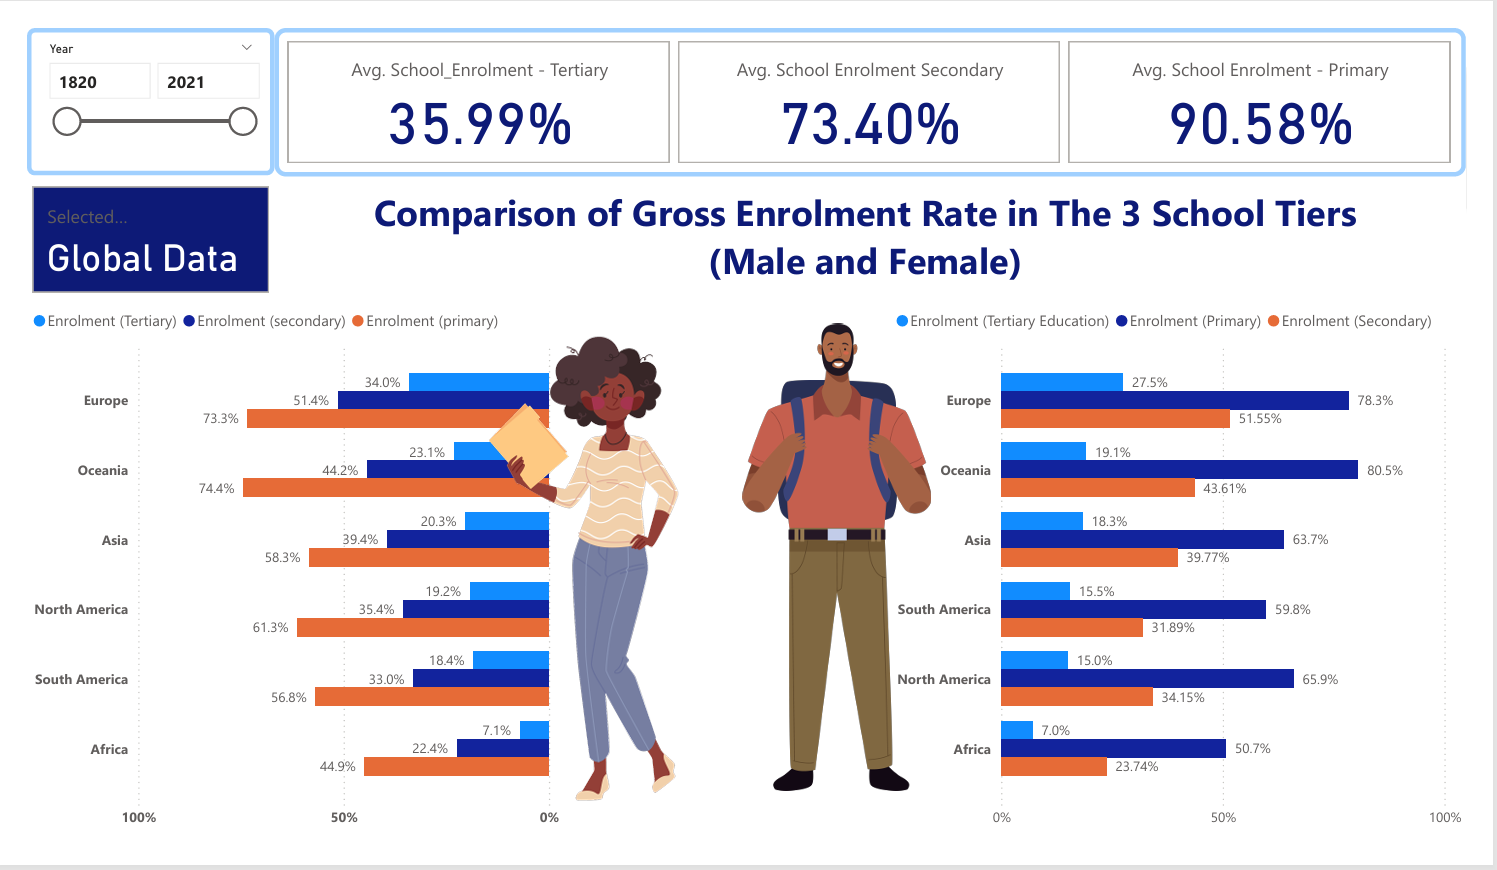

The page's visual inventory and layout, read from the dashboard file:
{"tool":"powerbi","page":{"name":"Gender Gap","canvas":[1280,720],"ordinal":1},"visuals":[{"type":"clusteredBarChart","title":"Comparison of Gross Enrolment in The 3 School Tiers (Male)","fields":{"Category":["world-education-data.Continent"],"Y":["Avg(Gender-gap-education-levels.Combined Gross Enrolment Ratio for Tertiary Education (Male))","Avg(Gender-gap-education-levels.Combined total net enrolment rate, secondary, male)","Avg(Gender-gap-education-levels.Combined total net enrolment rate, primary, male)"]},"box":[767.5,240,512.9,479.9],"z":0},{"type":"clusteredBarChart","title":"Comparison of Gross Enrolment in The 3 School Tiers (Female)","fields":{"Category":["world-education-data.Continent"],"Y":["Avg(Gender-gap-education-levels.Combined Gross Enrolment Ratio for Tertiary Education (Female))","Avg(Gender-gap-education-levels.Combined total net enrolment rate, secondary, female)","Avg(Gender-gap-education-levels.Combined total net enrolment rate, primary, female)"]},"box":[0,240,485.4,479.9],"z":1000},{"type":"image","box":[612.9,258.5,214.2,424.6],"z":2000},{"type":"image","box":[403.8,239.7,209.8,480.9],"z":3000},{"type":"slicer","fields":{"Values":["Gender-gap-education-levels.Year.Variation.Date Hierarchy.Year"]},"box":[0,0,219.8,131],"z":4000},{"type":"cardVisual","fields":{"Data":["Avg(world-education-data.school_enrol_tertiary_pct)","Avg(world-education-data.school_enrol_secondary_pct)","Avg(world-education-data.school_enrol_primary_pct)"]},"box":[219.8,0,1058.7,131.9],"z":5000},{"type":"textbox","box":[242.6,135.6,1004.6,108.5],"z":6000},{"type":"cardVisual","fields":{"Data":["world-education-data.Selected Country/Continent"]},"box":[0,135.6,219.8,104.2],"z":6001}]}

Visuals, with their boxes on the page's 1280x720 design canvas (x1, y1, x2, y2). These are canvas units, not pixel positions in the 1497x870 screenshot, which may show the page scaled, cropped or inside an application window:
"Comparison of Gross Enrolment in The 3 School Tiers (Male)" clusteredBarChart: (left=768, top=240, right=1280, bottom=720)
"Comparison of Gross Enrolment in The 3 School Tiers (Female)" clusteredBarChart: (left=0, top=240, right=485, bottom=720)
image: (left=613, top=258, right=827, bottom=683)
image: (left=404, top=240, right=614, bottom=721)
slicer - Gender-gap-education-levels.Year.Variation.Date Hierarchy.Year: (left=0, top=0, right=220, bottom=131)
cardVisual - Avg(world-education-data.school_enrol_tertiary_pct) x Avg(world-education-data.school_enrol_secondary_pct): (left=220, top=0, right=1278, bottom=132)
textbox: (left=243, top=136, right=1247, bottom=244)
cardVisual - world-education-data.Selected Country/Continent: (left=0, top=136, right=220, bottom=240)
